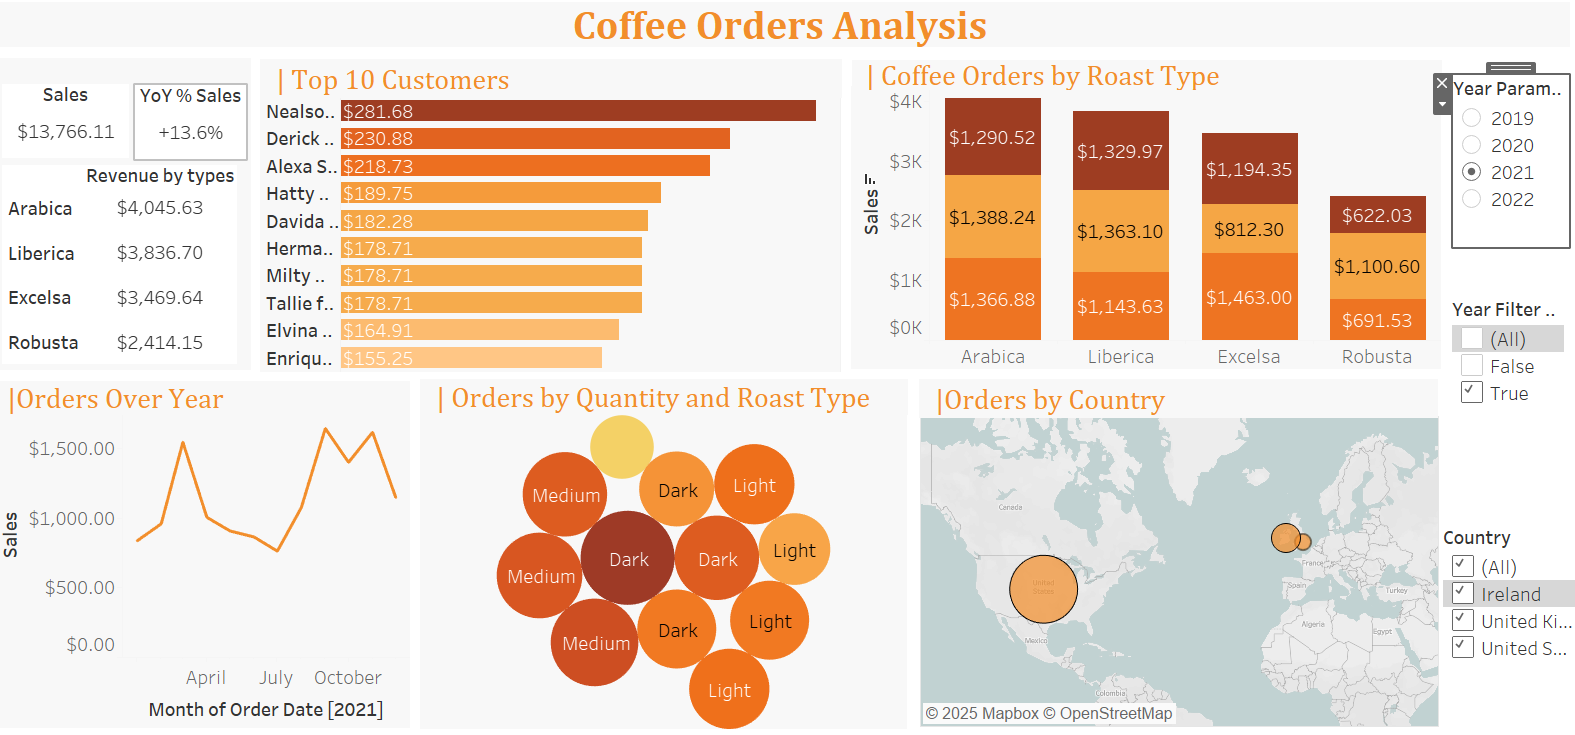

This screenshot's page, from the dashboard's own definition file:
{"tool":"tableau","page":{"name":"Coffee Orders Dashboard","canvas":[1000,1000],"units":"permille","ordinal":0},"visuals":[{"type":"title","box":[4.9,10.7,990.3,71]},{"type":"blank","box":[4.9,81.8,990.3,907.5]},{"type":"text","box":[175.9,92.5,362.8,52.3]},{"type":"text","box":[544.7,93.8,368.2,40.2]},{"type":"parameter","param":"[Parameters].[Parameter 1]","box":[919.7,113.9,72.4,230.6]},{"type":"worksheet","title":"Sales card","mark":"Automatic","cols":["Calculation_606297132129181697"],"box":[15,126.7,79.3,98.7]},{"type":"worksheet","title":"YoY % Change","mark":"Automatic","cols":["Calculation_606297132228431881"],"box":[97.9,128,69.3,98.7]},{"type":"worksheet","title":"Coffee Order Bar chart","mark":"Automatic","rows":["Sales"],"cols":["Coffee Type Name"],"box":[544.1,128.7,368.2,379.4]},{"type":"worksheet","title":"Top 10 Customers","mark":"Bar","rows":["Customer Name"],"box":[175.9,143.4,362.1,368.6]},{"type":"worksheet","title":"Sales revenue by Types","mark":"Automatic","rows":["Coffee Type Name"],"cols":["Calculation_606297132228825099"],"box":[14.7,234.6,147.1,266.8]},{"type":"filter","title":"Sales Line Chart","param":"[federated.0pe14cr001j5sx1c3yp9w1iqadmp].[none:Calculation_606297132132651010:nk","box":[919.1,410.2,70,171.6]},{"type":"text","box":[275.7,521.5,304.3,48.3]},{"type":"text","box":[586.7,521.5,323.8,52.3]},{"type":"text","box":[7.9,524.1,261.1,45.6]},{"type":"worksheet","title":"Sales Line Chart","mark":"Automatic","rows":["Sales"],"cols":["Order Date"],"box":[7.3,569.7,261.7,419.6]},{"type":"worksheet","title":"Roast Type Bubble chart","mark":"Circle","box":[275.7,569.7,303.7,420.9]},{"type":"worksheet","title":"Map","mark":"Automatic","box":[587.3,571.1,323.8,416.9]},{"type":"filter","title":"Roast Type Bubble chart","param":"[federated.0pe14cr001j5sx1c3yp9w1iqadmp].[none:Country:nk]","box":[913.6,715.8,79.7,253.3]}]}

Visuals, with their boxes on the dashboard's canvas, which has no fixed pixel size, in thousandths of its width and height (x1, y1, x2, y2). These are canvas units, not pixel positions in the 1575x735 screenshot, which may show the page scaled, cropped or inside an application window:
title: detection(5, 11, 995, 82)
blank: detection(5, 82, 995, 989)
text: detection(176, 92, 539, 145)
text: detection(545, 94, 913, 134)
parameter: detection(920, 114, 992, 344)
"Sales card" worksheet: detection(15, 127, 94, 225)
"YoY % Change" worksheet: detection(98, 128, 167, 227)
"Coffee Order Bar chart" worksheet: detection(544, 129, 912, 508)
"Top 10 Customers" worksheet (Bar marks): detection(176, 143, 538, 512)
"Sales revenue by Types" worksheet: detection(15, 235, 162, 501)
"Sales Line Chart" filter: detection(919, 410, 989, 582)
text: detection(276, 522, 580, 570)
text: detection(587, 522, 910, 574)
text: detection(8, 524, 269, 570)
"Sales Line Chart" worksheet: detection(7, 570, 269, 989)
"Roast Type Bubble chart" worksheet (Circle marks): detection(276, 570, 579, 991)
"Map" worksheet: detection(587, 571, 911, 988)
"Roast Type Bubble chart" filter: detection(914, 716, 993, 969)
